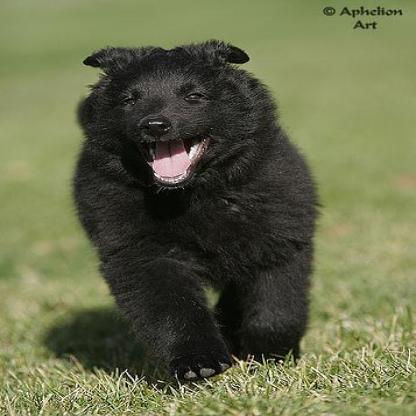groenendael: (64, 21, 330, 376)
